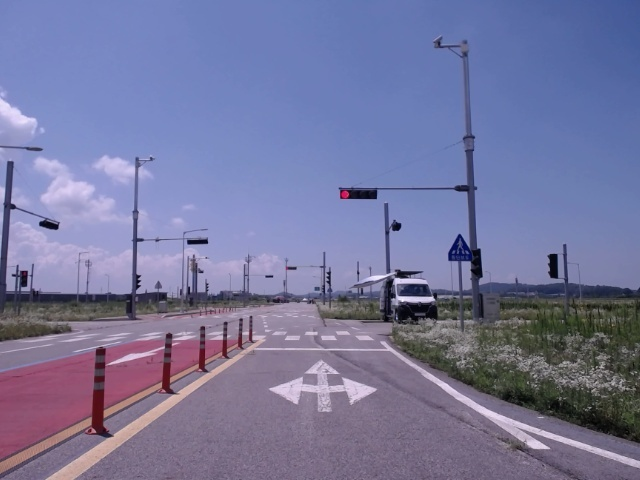red_4: (340, 188, 378, 200)
